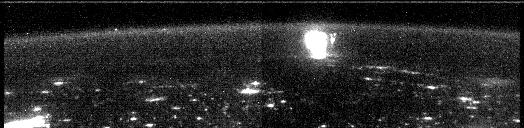positive: (300, 29, 337, 59)
